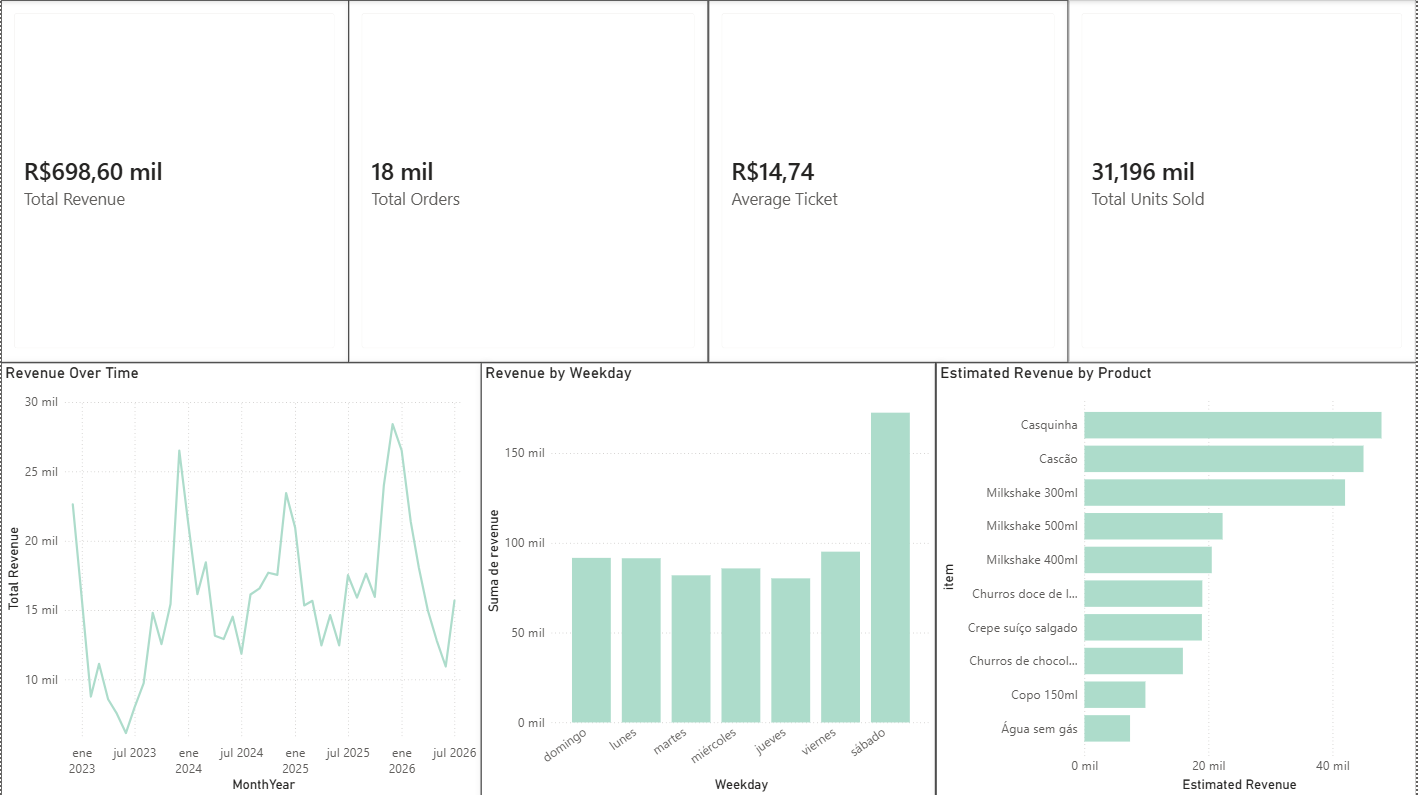

The page's visual inventory and layout, read from the dashboard file:
{"tool":"powerbi","page":{"name":"Executive Overview","canvas":[1920,1080],"ordinal":0},"visuals":[{"type":"cardVisual","fields":{"Data":["Calendar.Total Revenue"]},"box":[0,0,471.7,491.7],"z":0},{"type":"cardVisual","fields":{"Data":["Calendar.TotalOrders"]},"box":[471.7,0,488.3,491.7],"z":1000},{"type":"cardVisual","fields":{"Data":["Calendar.Average Ticket"]},"box":[960,0,488.3,491.7],"z":2000},{"type":"cardVisual","fields":{"Data":["Calendar.Total Units Sold"]},"box":[1448.3,0,471.7,491.7],"z":3000},{"type":"lineChart","title":"Revenue Over Time","fields":{"Category":["Calendar.MonthYear"],"Y":["Calendar.Total Revenue"]},"box":[0,491.7,651.7,588.3],"z":4000},{"type":"columnChart","title":"Revenue by Weekday","fields":{"Category":["Calendar.Weekday"],"Y":["Sum(revenue.revenue)"]},"box":[651.7,491.7,616.7,588.3],"z":5000},{"type":"barChart","title":"Estimated Revenue by Product","fields":{"Category":["items_sold.item"],"Y":["Calendar.Estimated Revenue"]},"box":[1268.3,491.7,651.7,588.3],"z":6000}]}

Visuals, with their boxes in screenshot pixels (x1, y1, x2, y2), scaled from the page's 1920x1080 canvas onto the 1418x795 screenshot:
cardVisual - Calendar.Total Revenue: (left=0, top=0, right=348, bottom=362)
cardVisual - Calendar.TotalOrders: (left=348, top=0, right=709, bottom=362)
cardVisual - Calendar.Average Ticket: (left=709, top=0, right=1070, bottom=362)
cardVisual - Calendar.Total Units Sold: (left=1070, top=0, right=1417, bottom=362)
"Revenue Over Time" lineChart: (left=0, top=362, right=481, bottom=794)
"Revenue by Weekday" columnChart: (left=481, top=362, right=937, bottom=794)
"Estimated Revenue by Product" barChart: (left=937, top=362, right=1417, bottom=794)
